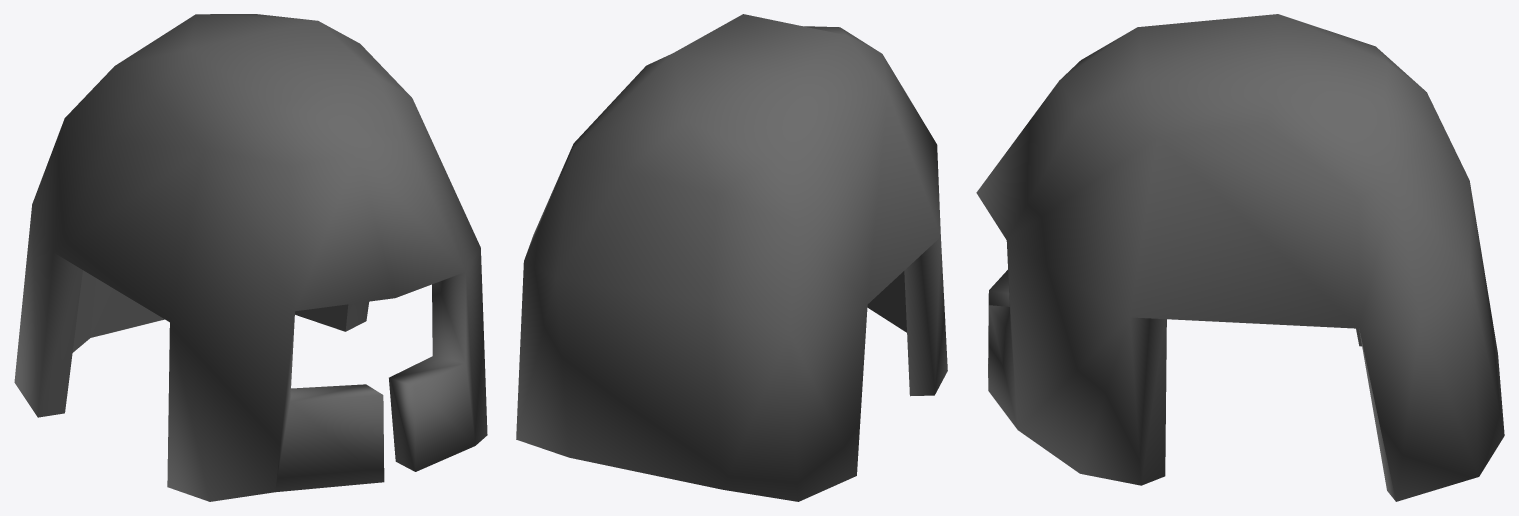
Rendered from Helmet.fbx.
3 views of the same model, side by side, from view 1: azimuth 30°, elevation 25°; view 2: azimuth 150°, elevation 25°; view 3: azimuth 270°, elevation 25° (orthographic). The views are drawn at different scales.
Parts seen in each view (by area): view 1: Helmet; view 2: Helmet; view 3: Helmet.
Part boxes in pixels (x1=…): Helmet: x1=14, y1=14, x2=487, y2=501; Helmet: x1=516, y1=14, x2=947, y2=501; Helmet: x1=976, y1=14, x2=1504, y2=501.
Bounding box in the file's own units: 57.32 × 58.36 × 74.64.
